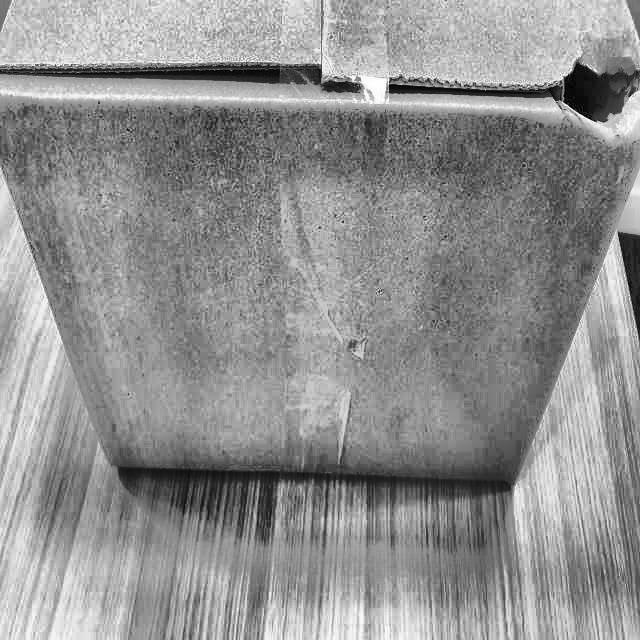box: (0, 0, 639, 518)
hole: (534, 48, 640, 148)
